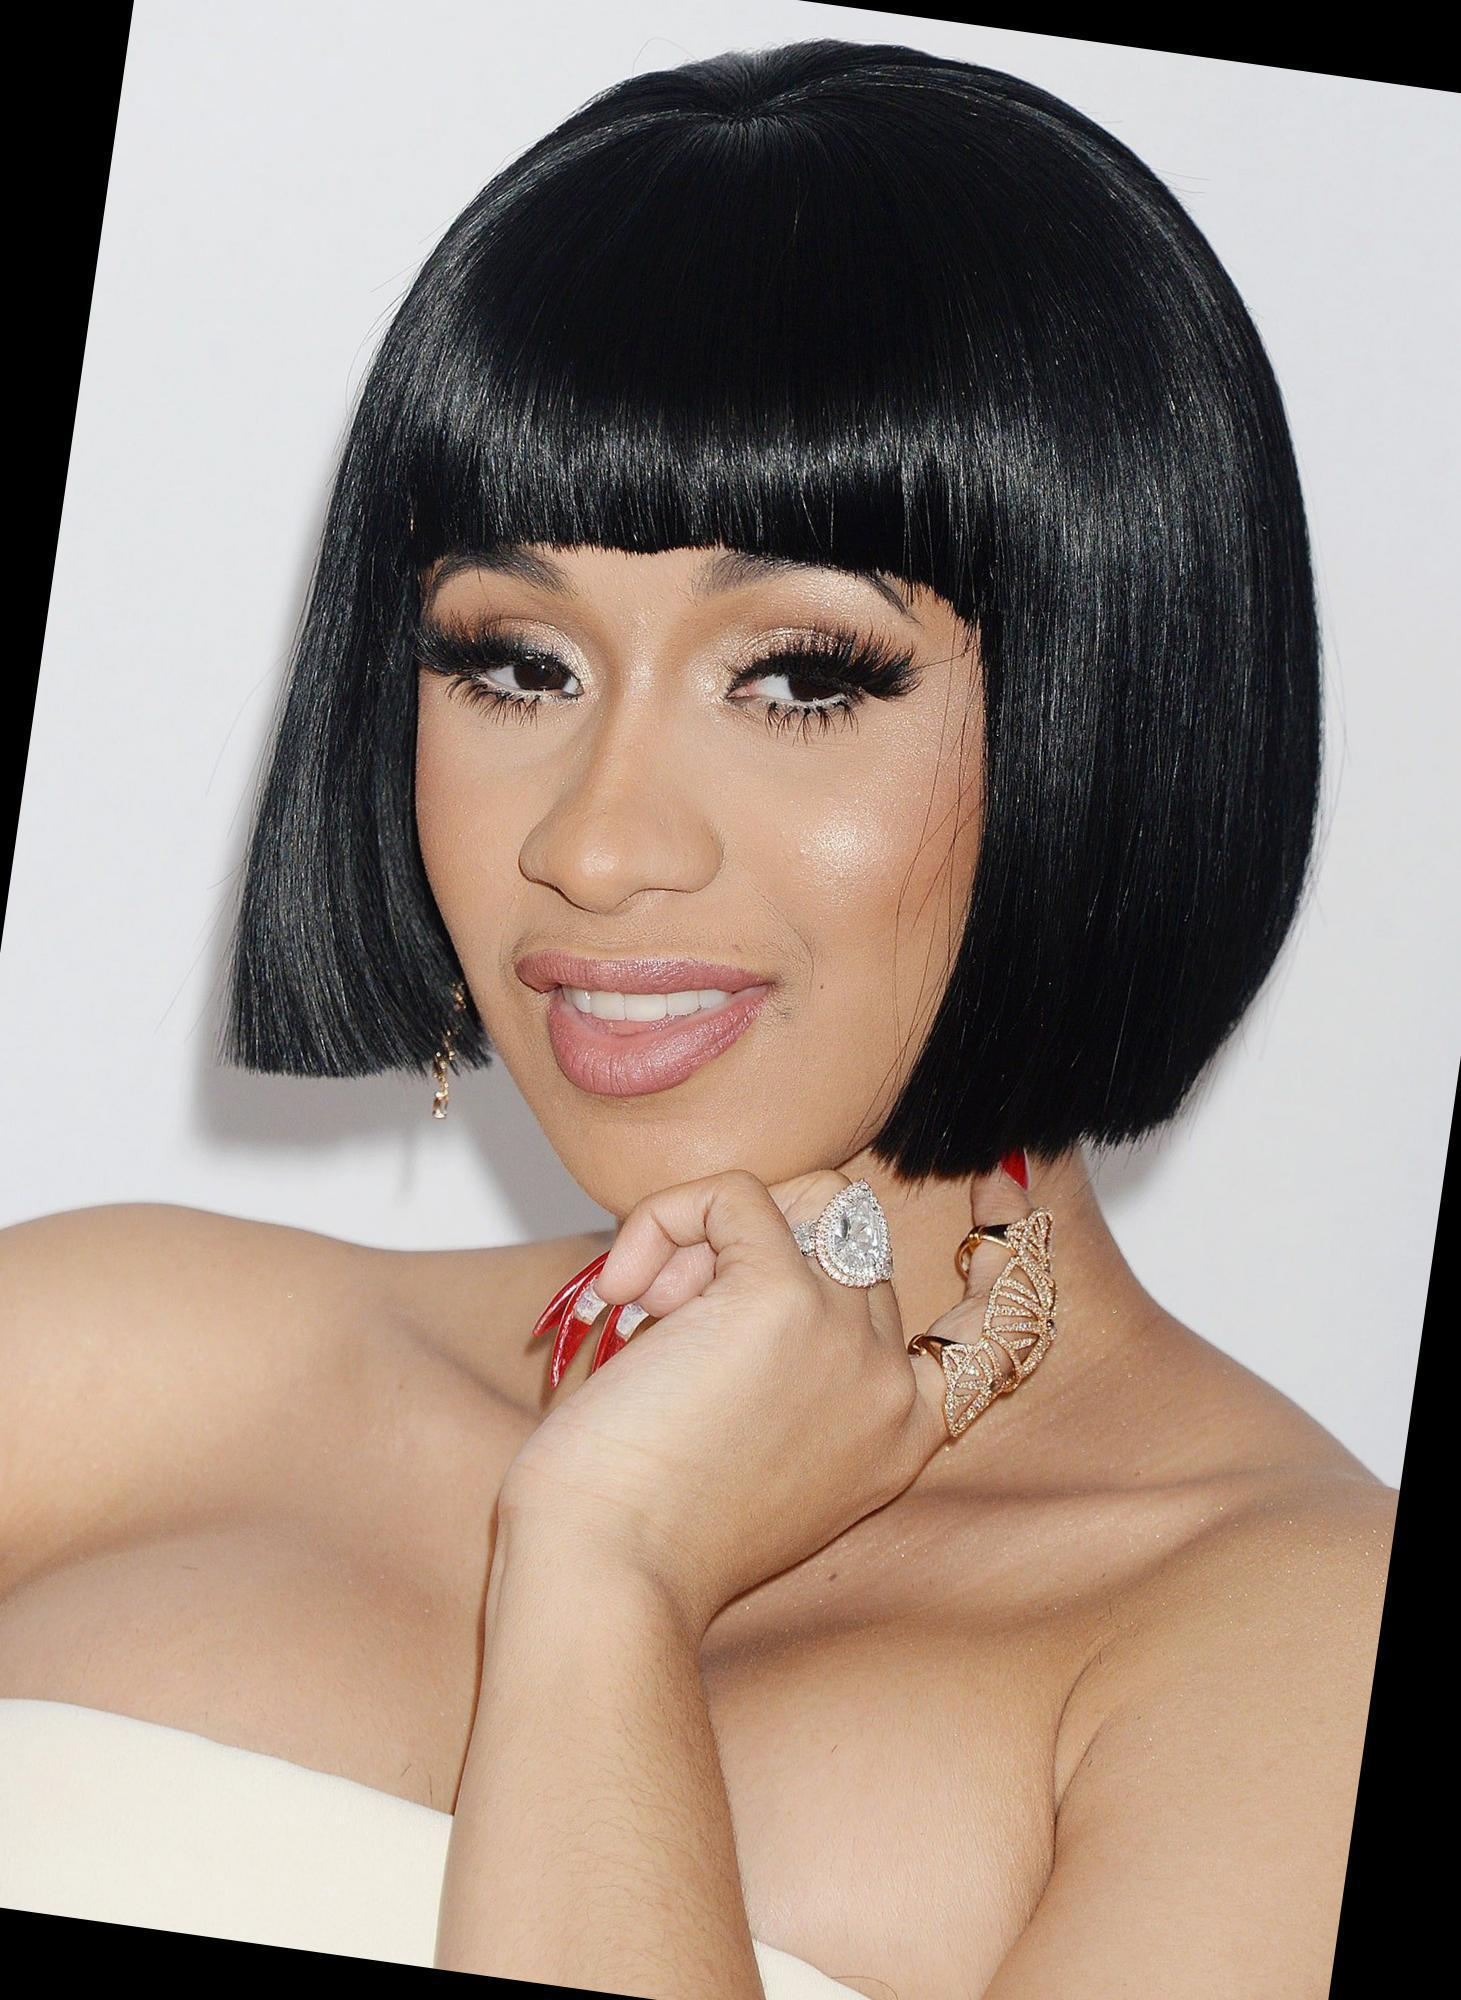Sober: (422, 526, 977, 1189)
